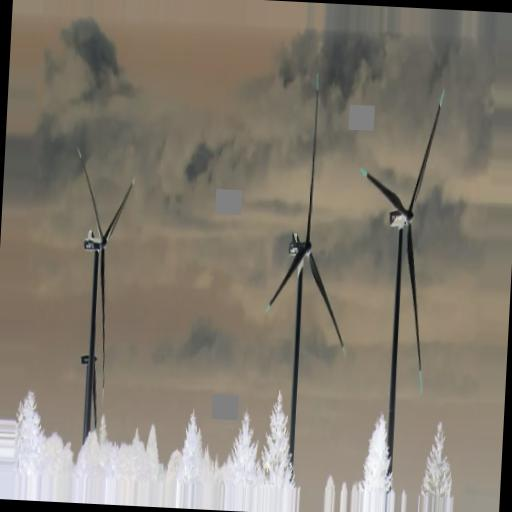wind turbine: (357, 89, 448, 470), (265, 71, 347, 448), (75, 144, 136, 448)
